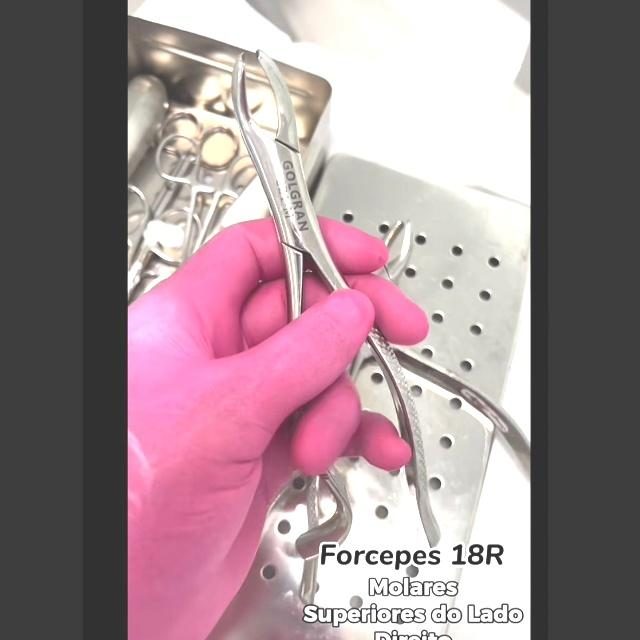forceps: (233, 51, 348, 320), (368, 330, 441, 548), (306, 476, 324, 531), (299, 553, 317, 607)
